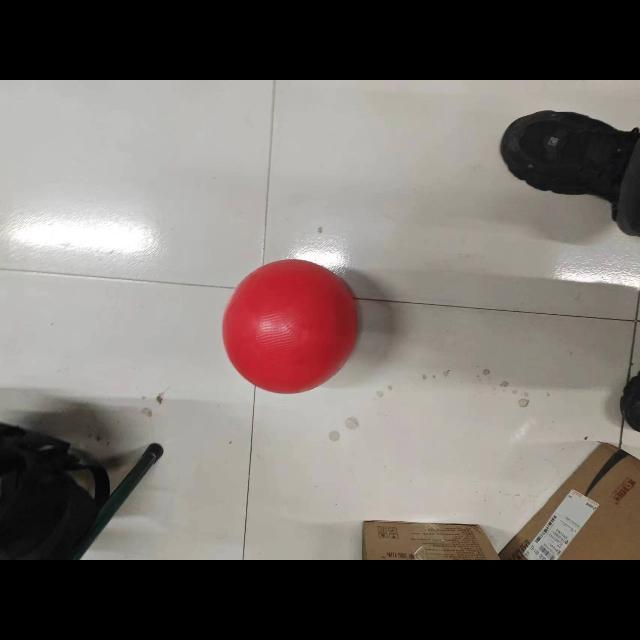R: (220, 257, 366, 398)
